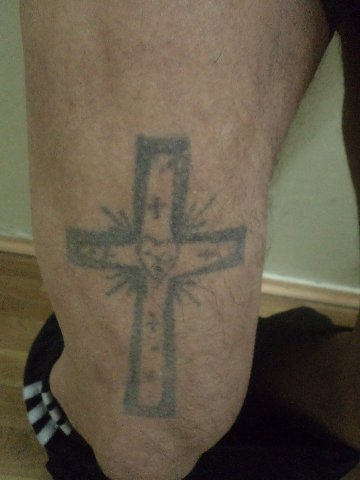tatu9_krest: (58, 114, 252, 423)
